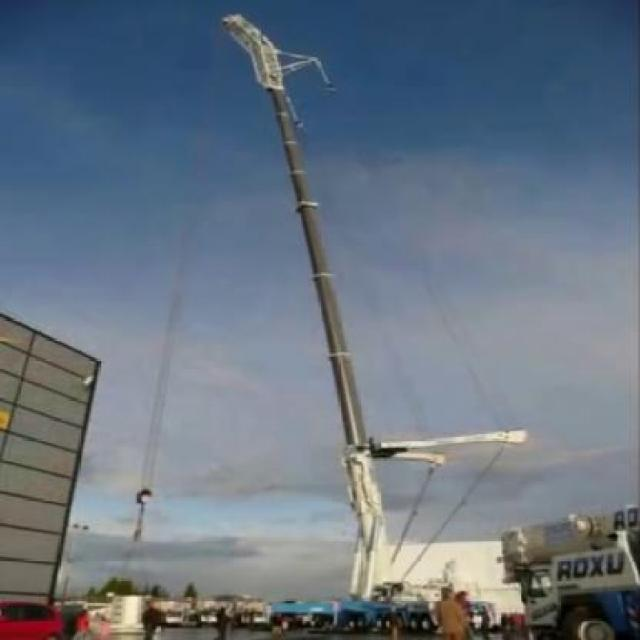Mobile Crane: (219, 11, 530, 634)
